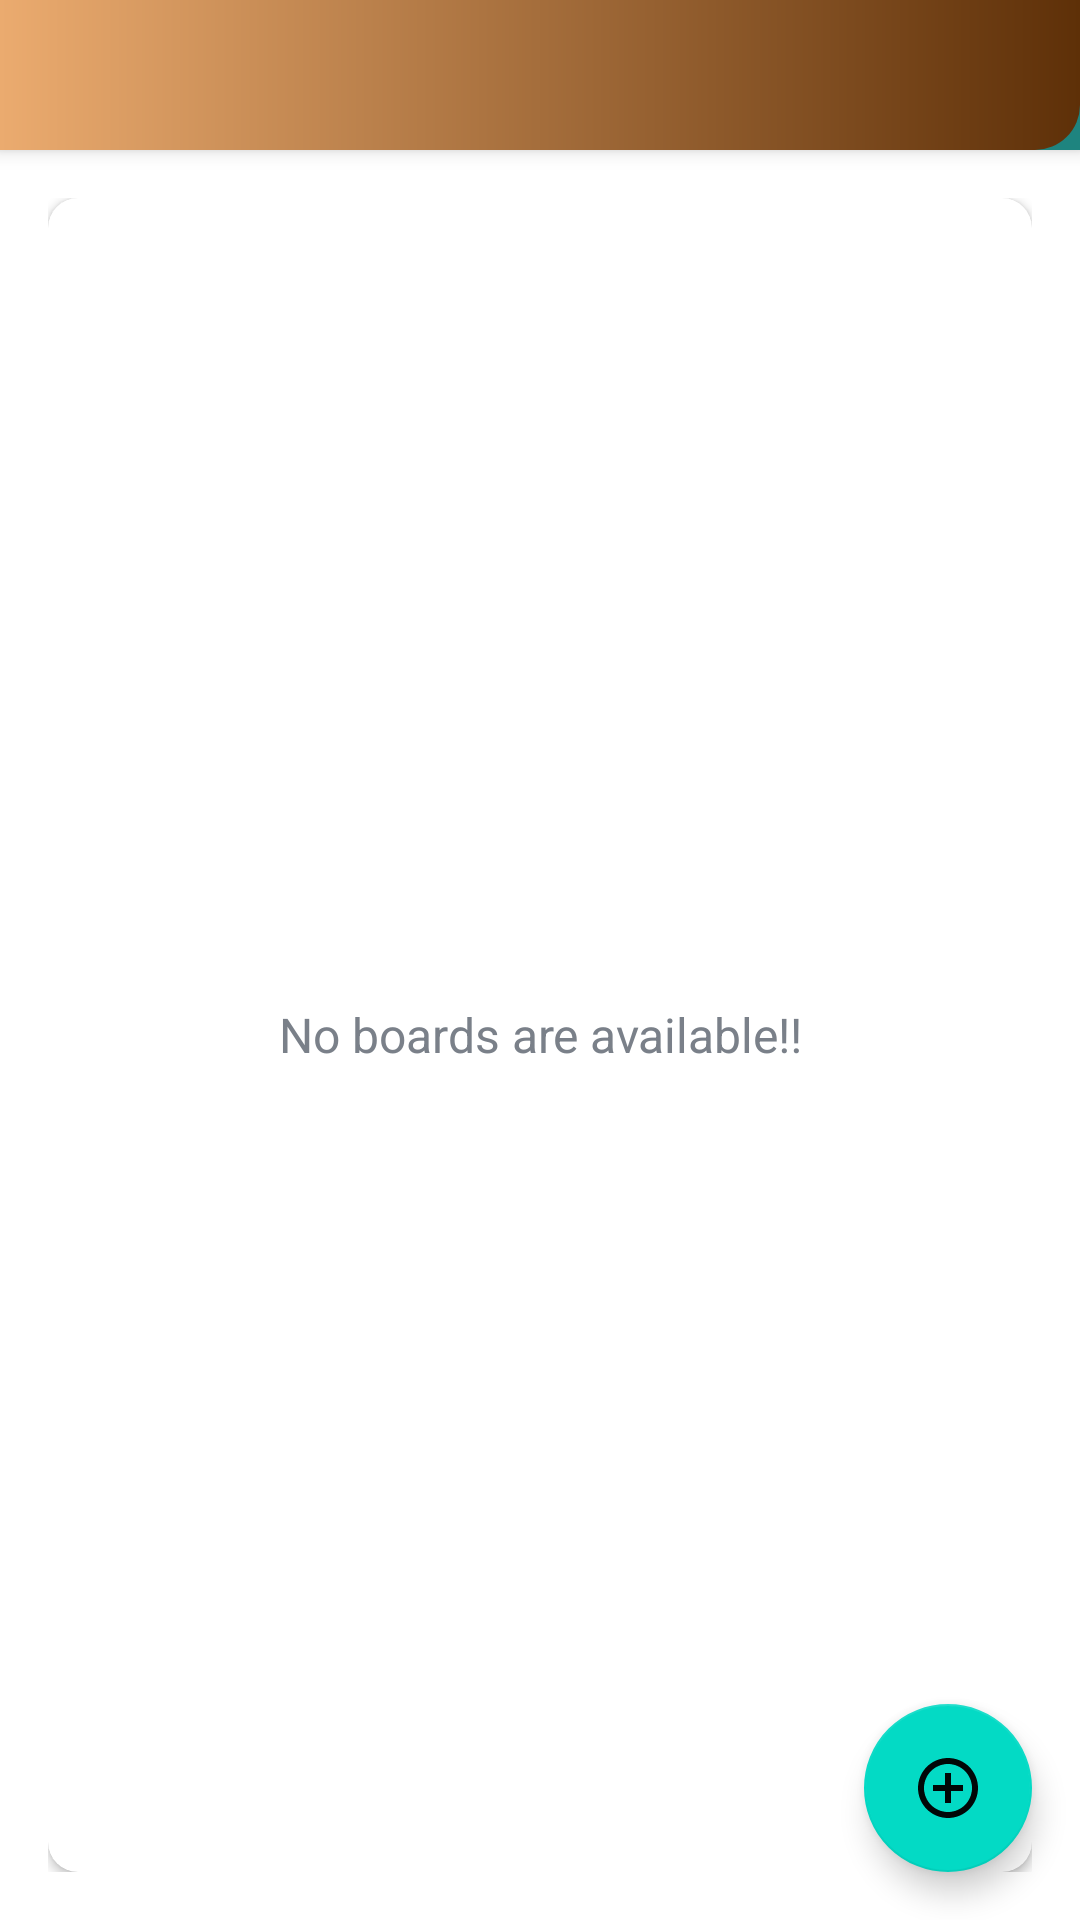

Locate icon controls on the screen. Image size 1080w x 1920h, boxes as (x1, y1, x2, y2).
add circle: (864, 1704, 1032, 1872)
